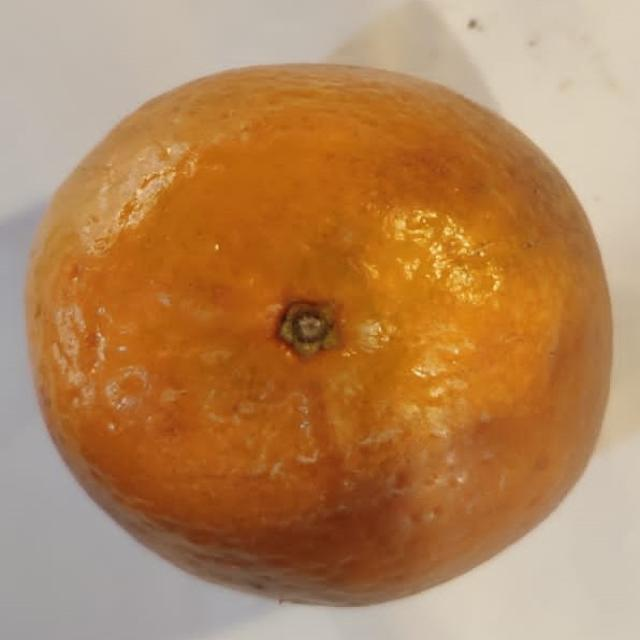orange: (27, 66, 611, 604)
